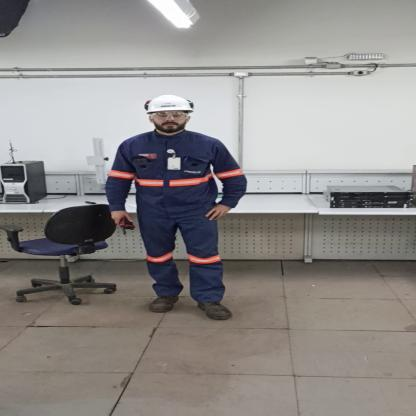Capacete: (141, 92, 200, 114)
